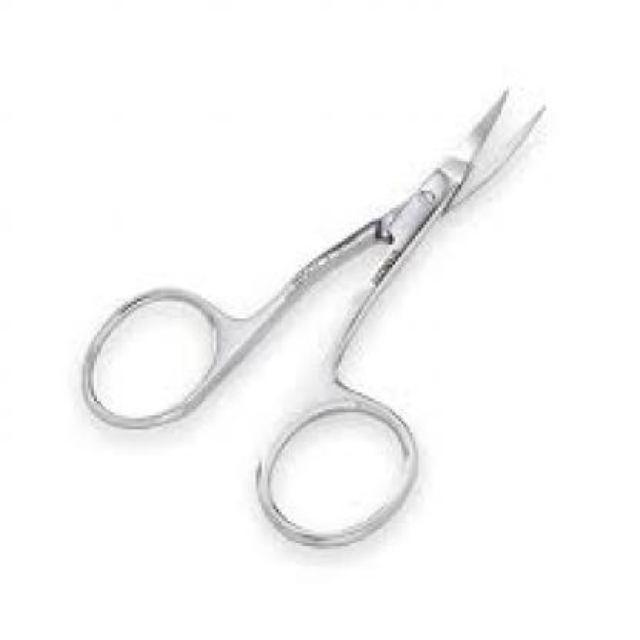scissors: (79, 90, 552, 552)
